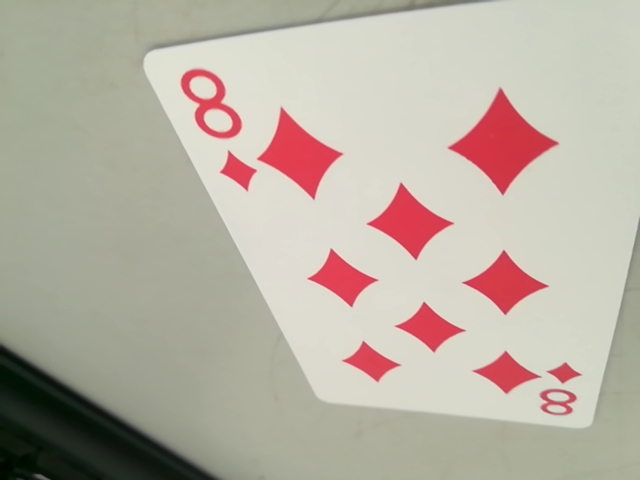fk 8: (170, 58, 258, 206), (536, 367, 587, 423)
